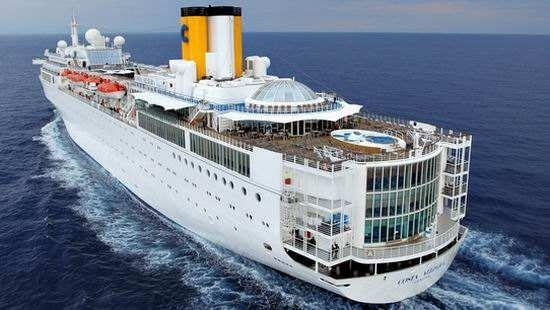youlun: (33, 4, 473, 303)
